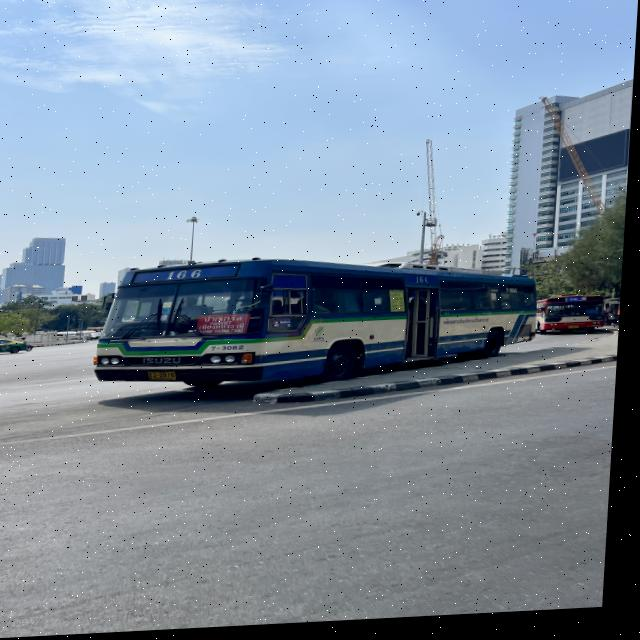BMTA-bus: (99, 265, 541, 399), (541, 301, 620, 340)
Bus Line Number: (161, 268, 211, 285), (570, 302, 590, 309)
Bus Side Number: (213, 345, 254, 357), (590, 331, 608, 334)
Destination Sign: (199, 315, 253, 340), (590, 317, 602, 322)
